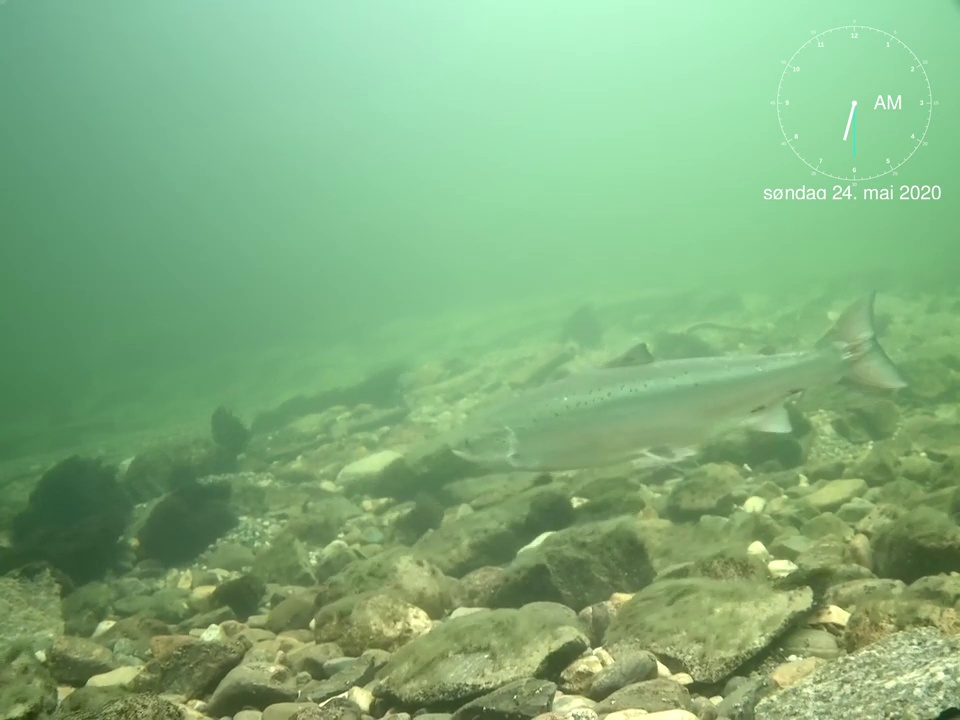salmon: (447, 287, 911, 473)
